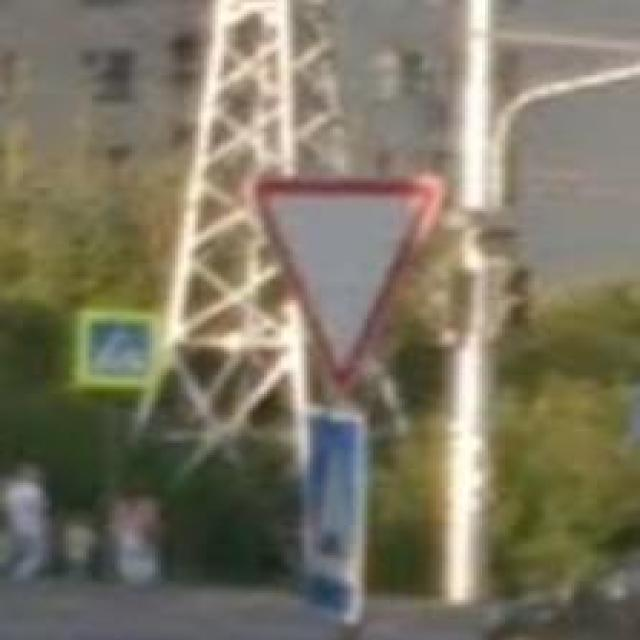crosswalk: (69, 305, 169, 389)
give_way: (244, 174, 445, 382)
